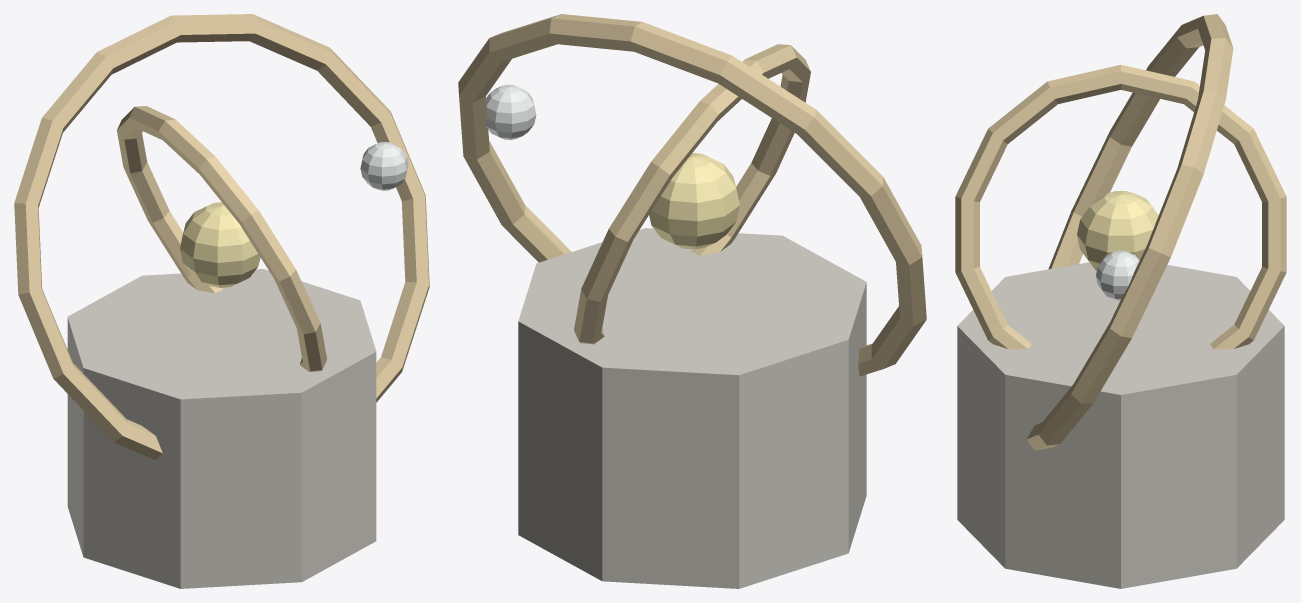
Rendered from moonhill-orrery-01.glb.
The picture shows the model from 3 angles, left to right: view 1: azimuth 30°, elevation 25°; view 2: azimuth 150°, elevation 25°; view 3: azimuth 270°, elevation 25°; orthographic projection. The views are drawn at different scales.
Visible parts, largest first — view 1: Plinth, OrbitOuter, OrbitInner, Sun, Moon; view 2: Plinth, OrbitOuter, OrbitInner, Sun, Moon; view 3: Plinth, OrbitOuter, OrbitInner, Sun, Moon.
Part boxes in pixels (box(x1,y1,x2,y2)): Plinth: box(67, 269, 376, 588); OrbitOuter: box(14, 14, 429, 460); OrbitInner: box(117, 106, 326, 371); Sun: box(180, 202, 260, 287); Moon: box(360, 141, 408, 190); Plinth: box(518, 228, 866, 588); OrbitOuter: box(458, 14, 926, 376); OrbitInner: box(574, 44, 810, 344); Sun: box(649, 153, 739, 249); Moon: box(486, 84, 536, 139); Plinth: box(957, 262, 1284, 588); OrbitOuter: box(1026, 14, 1233, 450); OrbitInner: box(955, 64, 1286, 349); Sun: box(1077, 191, 1158, 270); Moon: box(1096, 250, 1139, 300).
Size of the model in its own units: 1.53 by 1.69 by 1.05.
